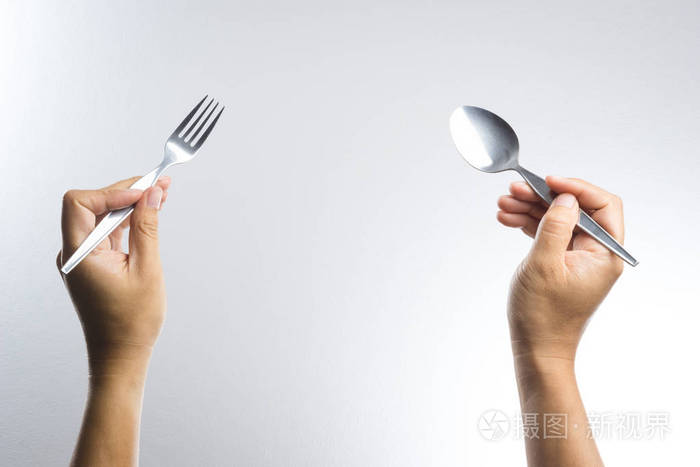no-phone: (445, 100, 639, 383), (52, 92, 226, 373)
